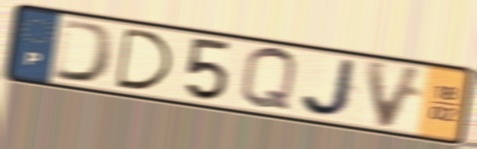5: (180, 35, 237, 104)
D: (50, 16, 119, 86), (114, 25, 177, 93)
J: (298, 57, 362, 119)
Q: (237, 44, 300, 114)
V: (363, 56, 430, 132)
